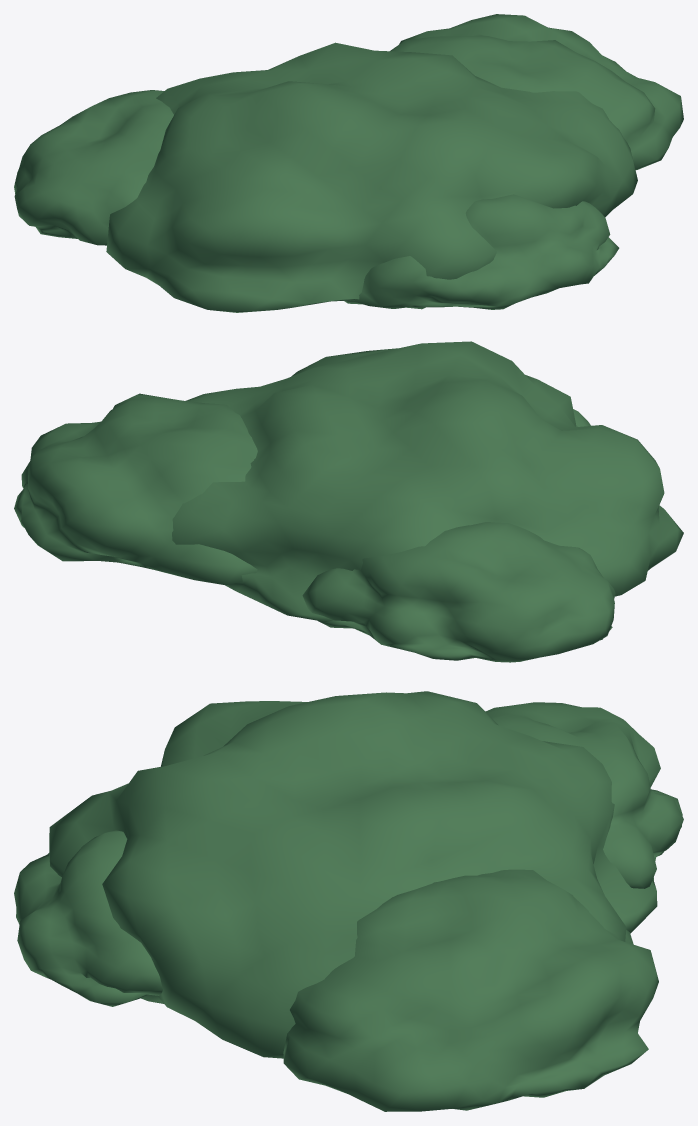
Rendered from moss_cushion.glb.
The picture shows the model from 3 angles, top to bottom: view 1: azimuth 30°, elevation 25°; view 2: azimuth 150°, elevation 25°; view 3: azimuth 270°, elevation 25°; orthographic projection. The views are drawn at different scales.
Parts seen in each view (by area): view 1: MossCushion; view 2: MossCushion; view 3: MossCushion.
Boxes of the visible parts, x1,y1,x2,y2 form: MossCushion: (14, 14, 683, 312); MossCushion: (14, 341, 683, 662); MossCushion: (14, 691, 683, 1111).
Bounding box in the file's own units: 0.9802 × 0.2534 × 0.7464.
